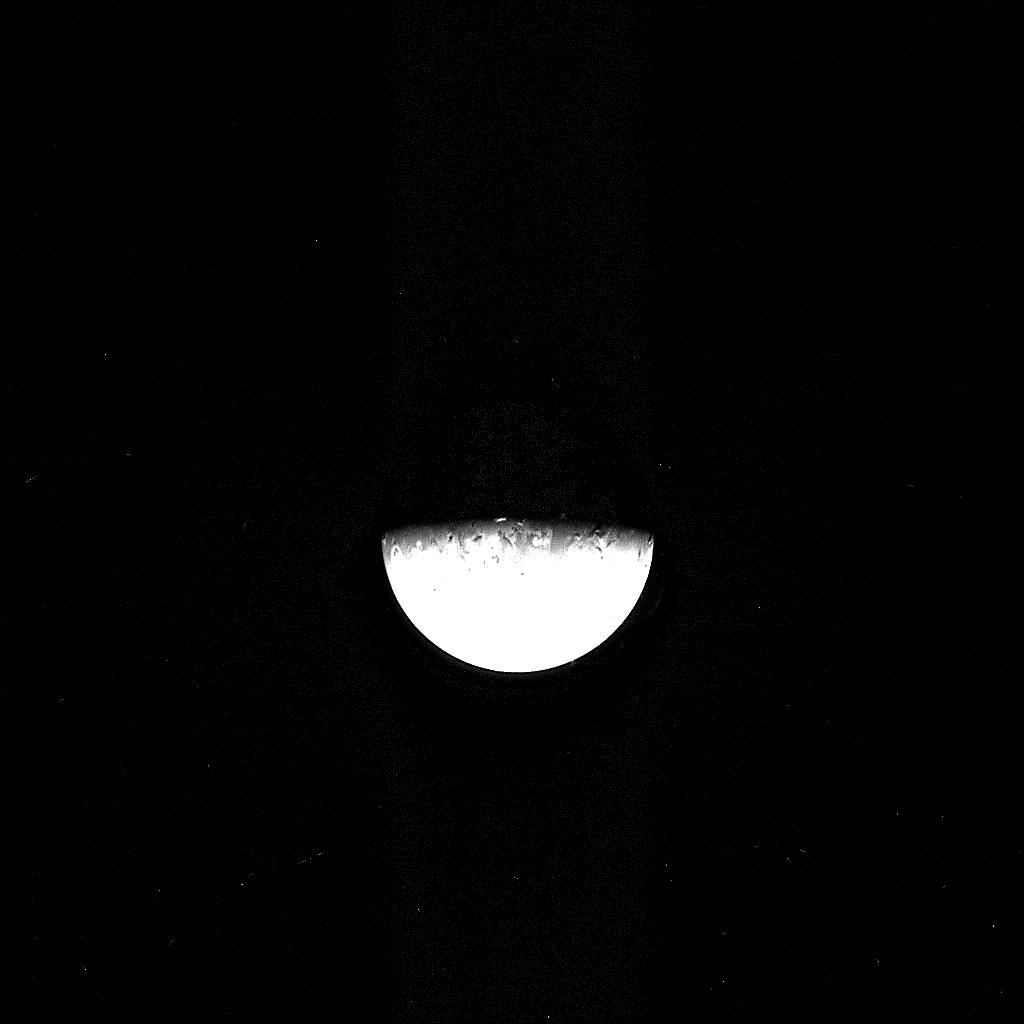plumes: (571, 660, 576, 666)
